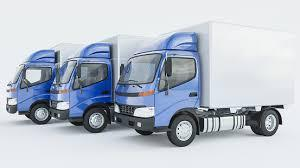truck: (114, 26, 217, 149), (49, 41, 128, 135), (4, 48, 64, 127)
